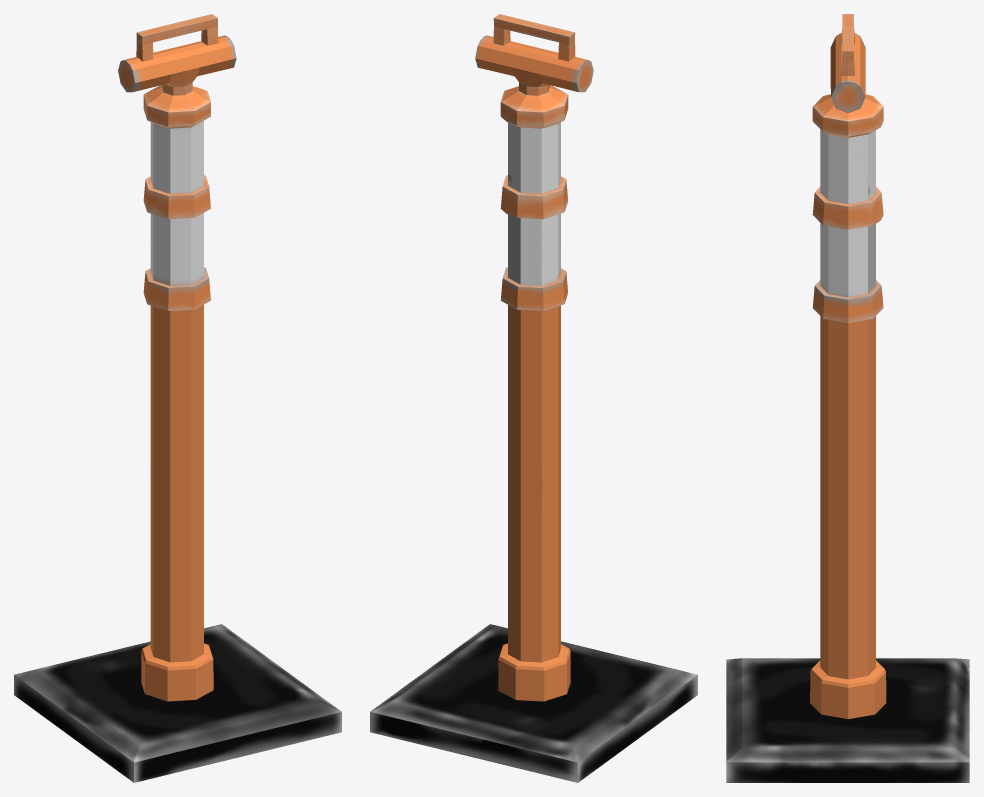
File: barrage, 2.fbx
The picture shows the model from 3 angles, left to right: view 1: azimuth 30°, elevation 25°; view 2: azimuth 150°, elevation 25°; view 3: azimuth 270°, elevation 25°; orthographic projection.
Visible parts, largest first — view 1: Cylinder; view 2: Cylinder; view 3: Cylinder.
Part boxes in pixels (x1,y1,x2,y2): Cylinder: [14, 14, 341, 782]; Cylinder: [370, 14, 697, 782]; Cylinder: [726, 14, 969, 782].
Bounding box in the file's own units: 0.352 × 1.11 × 0.352.
